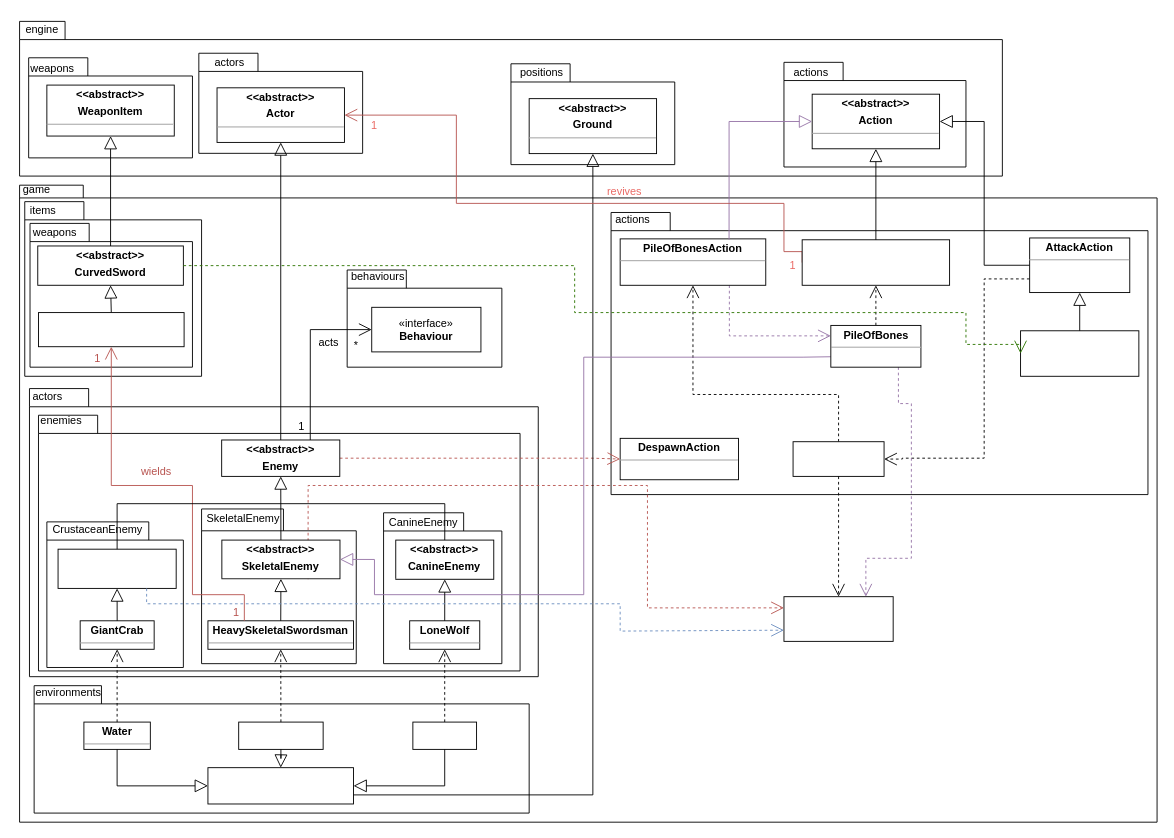
The diagram is 1174 pixels wide and 838 high, and some of its shapes have lost their labels. The centre of each missing label's shape, as x and y in pixels:
"<<abstract>> CrustaceanEnemy" goes at point (116, 568).
"<<abstract>> SpawningGround" goes at point (280, 785).
"<<enumeration>> Status" goes at point (838, 618).
"AreaAttackAction" goes at point (1079, 353).
"DeathAction" goes at point (838, 458).
"Graveyard" goes at point (280, 735).
"Grossmesser" goes at point (111, 329).
"PileOfBonesReviveAction" goes at point (875, 262).
"Wind" goes at point (444, 735).
